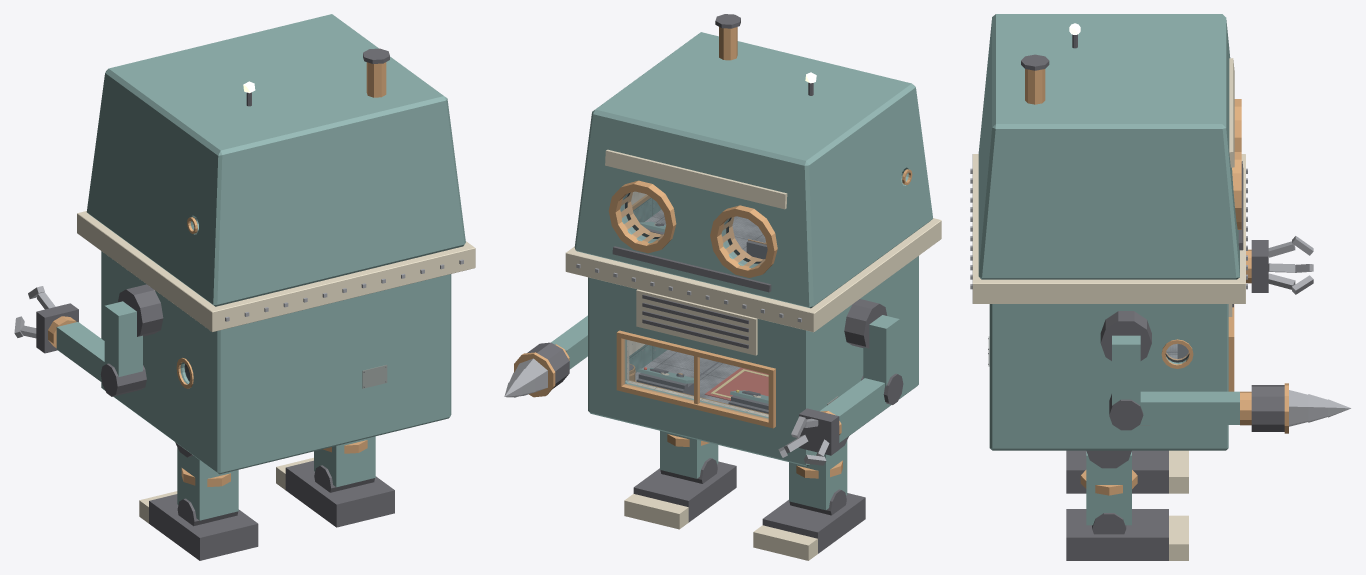
Rendered from mecha.glb.
3 renders of one model, left to right at view 1: azimuth 30°, elevation 25°; view 2: azimuth 150°, elevation 25°; view 3: azimuth 270°, elevation 25°, orthographic. The views are drawn at different scales.
Parts seen in each view (by area): view 1: Ext_Head, Ext_Body, Ext_Details, Ext_Collar; view 2: Ext_Head, Ext_Details, Ext_Body, Ext_Collar, Int_Belly, Int_Decor, Int_Head, Int_Slab; view 3: Ext_Head, Ext_Details, Ext_Body, Ext_Collar, Int_Decor.
Boxes of the visible parts, x1=… form: Ext_Head: x1=86, y1=14, x2=465, y2=306; Ext_Body: x1=101, y1=251, x2=451, y2=474; Ext_Details: x1=14, y1=48, x2=463, y2=560; Ext_Collar: x1=77, y1=211, x2=475, y2=332; Ext_Head: x1=574, y1=32, x2=933, y2=308; Ext_Details: x1=504, y1=14, x2=903, y2=560; Ext_Body: x1=588, y1=256, x2=918, y2=466; Ext_Collar: x1=565, y1=218, x2=941, y2=332; Int_Belly: x1=626, y1=340, x2=768, y2=417; Int_Decor: x1=629, y1=363, x2=768, y2=400; Int_Head: x1=631, y1=191, x2=767, y2=259; Int_Slab: x1=644, y1=209, x2=765, y2=252; Ext_Head: x1=978, y1=14, x2=1239, y2=279; Ext_Details: x1=970, y1=23, x2=1350, y2=560; Ext_Body: x1=989, y1=304, x2=1228, y2=450; Ext_Collar: x1=972, y1=154, x2=1245, y2=303; Int_Decor: x1=1161, y1=339, x2=1193, y2=368.
Bounding box in the file's own units: 6.85 × 9.37 × 6.7.
27 materials, 4 textured.
